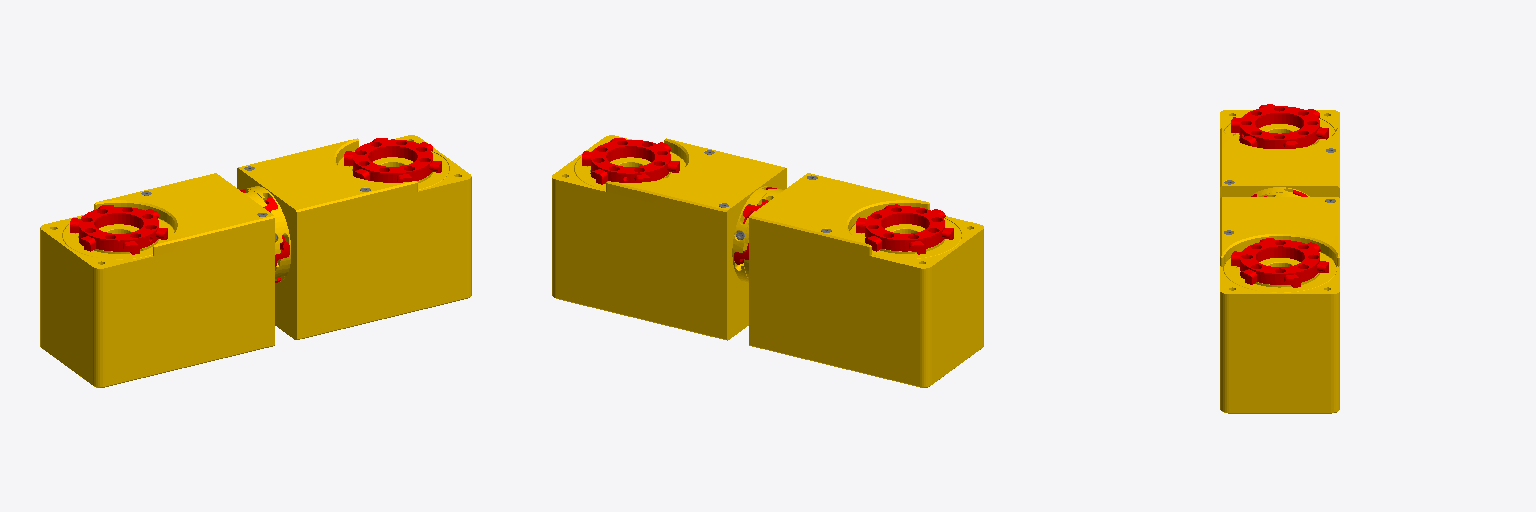
3 views of the same model, side by side, from view 1: azimuth 30°, elevation 25°; view 2: azimuth 150°, elevation 25°; view 3: azimuth 270°, elevation 25° (orthographic).
Visible parts, largest first — view 1: Actuator_2021-02-24-02, Actuator_2021-02-24-02.001; view 2: Actuator_2021-02-24-02, Actuator_2021-02-24-02.001; view 3: Actuator_2021-02-24-02.001, Actuator_2021-02-24-02.
Part boxes in pixels (bbox=[...]): Actuator_2021-02-24-02: bbox=[40, 173, 280, 387]; Actuator_2021-02-24-02.001: bbox=[237, 135, 471, 339]; Actuator_2021-02-24-02: bbox=[744, 173, 983, 387]; Actuator_2021-02-24-02.001: bbox=[552, 135, 786, 340]; Actuator_2021-02-24-02.001: bbox=[1220, 192, 1339, 413]; Actuator_2021-02-24-02: bbox=[1220, 104, 1339, 197].
Size of the model in its own units: 24.73 by 8.25 by 6.82.
3 materials, 1 textured.